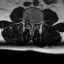CCS_normal: (31, 20, 33, 29)
LFS_severe_stenosis: (35, 20, 37, 25)
LLS_stenosis: (33, 20, 35, 27)
RFS_severe_stenosis: (27, 19, 29, 24)
RLS_stenosis: (29, 20, 31, 27)
